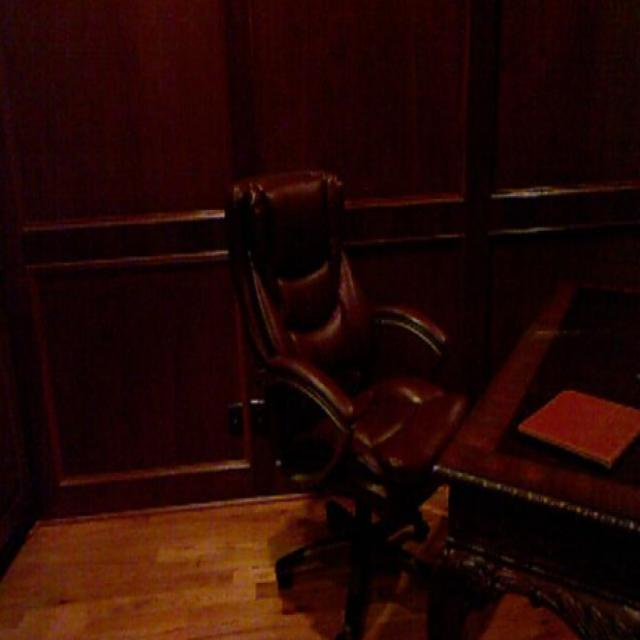chair: (229, 177, 446, 546)
table: (429, 271, 640, 619)
